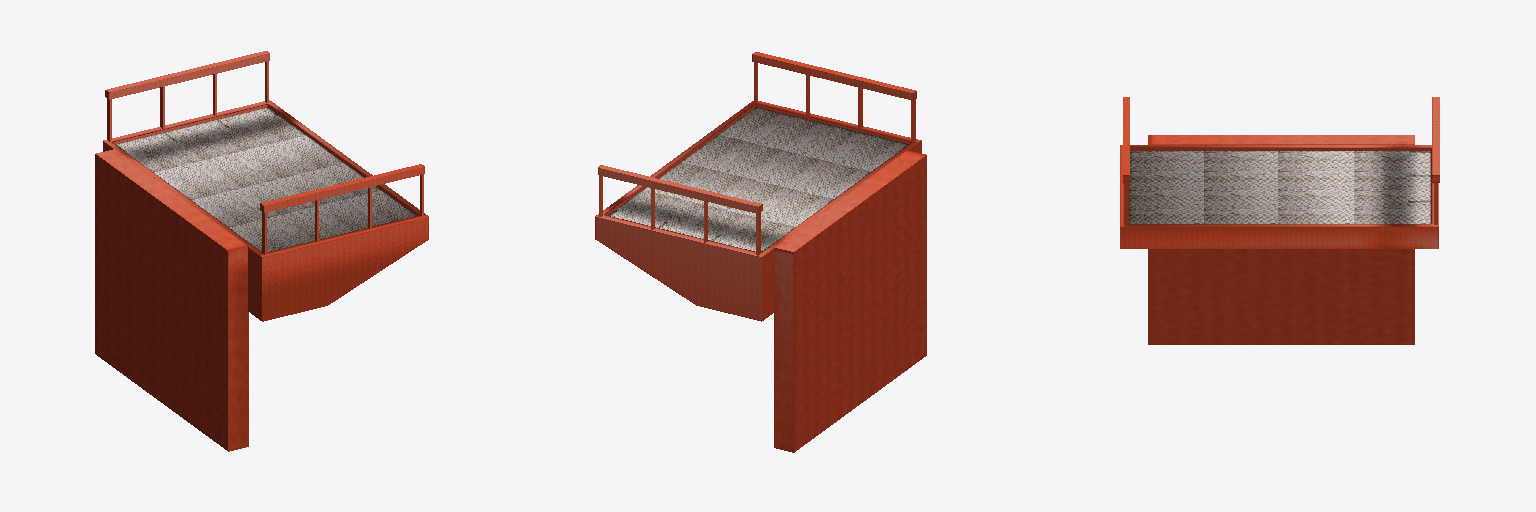
The picture shows the model from 3 angles: view 1: azimuth 30°, elevation 25°; view 2: azimuth 150°, elevation 25°; view 3: azimuth 270°, elevation 25°; orthographic projection.
Size of the model in its own units: 1.29 by 1.65 by 1.91.
Materials: 1 (1 with a texture image).